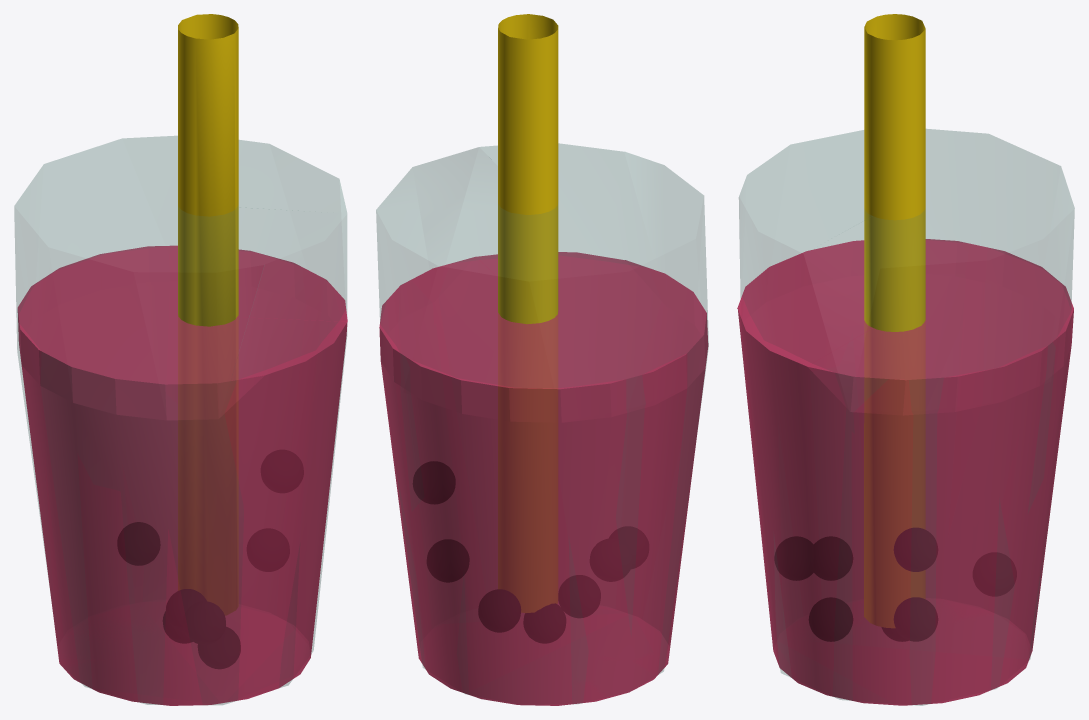
Rendered from boba.obj.
The picture shows the model from 3 angles, left to right: view 1: azimuth 30°, elevation 25°; view 2: azimuth 150°, elevation 25°; view 3: azimuth 270°, elevation 25°; orthographic projection. The views are drawn at different scales.
Visible parts, largest first — view 1: pCylinder3_Mesh.003, pasted__pCylinder1_Mesh.002, pCylinder2_Mesh.001, pSphere6_Mesh.009, pSphere7_Mesh.010, pSphere3_Mesh.006, pSphere5_Mesh.008, pSphere2_Mesh.005, pSphere4_Mesh.007; view 2: pCylinder3_Mesh.003, pasted__pCylinder1_Mesh.002, pCylinder2_Mesh.001, pSphere4_Mesh.007, pSphere2_Mesh.005, pSphere7_Mesh.010, pSphere3_Mesh.006, pSphere6_Mesh.009, pSphere1_Mesh.004, pSphere5_Mesh.008; view 3: pCylinder3_Mesh.003, pasted__pCylinder1_Mesh.002, pCylinder2_Mesh.001, pSphere6_Mesh.009, pSphere7_Mesh.010, pSphere2_Mesh.005, pSphere3_Mesh.006, pSphere4_Mesh.007, pSphere5_Mesh.008.
Boxes of the visible parts, x1,y1,x2,y2 form: pCylinder3_Mesh.003: [17, 245, 347, 705]; pasted__pCylinder1_Mesh.002: [14, 136, 346, 704]; pCylinder2_Mesh.001: [178, 14, 238, 614]; pSphere6_Mesh.009: [261, 450, 303, 492]; pSphere7_Mesh.010: [247, 529, 289, 571]; pSphere3_Mesh.006: [118, 522, 159, 565]; pSphere5_Mesh.008: [183, 602, 225, 644]; pSphere2_Mesh.005: [198, 627, 240, 668]; pSphere4_Mesh.007: [166, 589, 206, 631]; pCylinder3_Mesh.003: [379, 252, 708, 705]; pasted__pCylinder1_Mesh.002: [376, 143, 708, 703]; pCylinder2_Mesh.001: [498, 14, 558, 612]; pSphere4_Mesh.007: [590, 539, 631, 581]; pSphere2_Mesh.005: [559, 575, 600, 617]; pSphere7_Mesh.010: [427, 540, 468, 581]; pSphere3_Mesh.006: [478, 590, 520, 631]; pSphere6_Mesh.009: [413, 461, 454, 503]; pSphere1_Mesh.004: [524, 604, 565, 642]; pSphere5_Mesh.008: [609, 527, 648, 568]; pCylinder3_Mesh.003: [737, 239, 1073, 705]; pasted__pCylinder1_Mesh.002: [739, 129, 1074, 705]; pCylinder2_Mesh.001: [864, 14, 925, 627]; pSphere6_Mesh.009: [894, 528, 937, 571]; pSphere7_Mesh.010: [894, 598, 937, 640]; pSphere2_Mesh.005: [809, 598, 852, 641]; pSphere3_Mesh.006: [973, 553, 1016, 595]; pSphere4_Mesh.007: [814, 537, 852, 580]; pSphere5_Mesh.008: [775, 537, 812, 580].
Size of the model in its own units: 0.0156 by 0.0322 by 0.0156.
